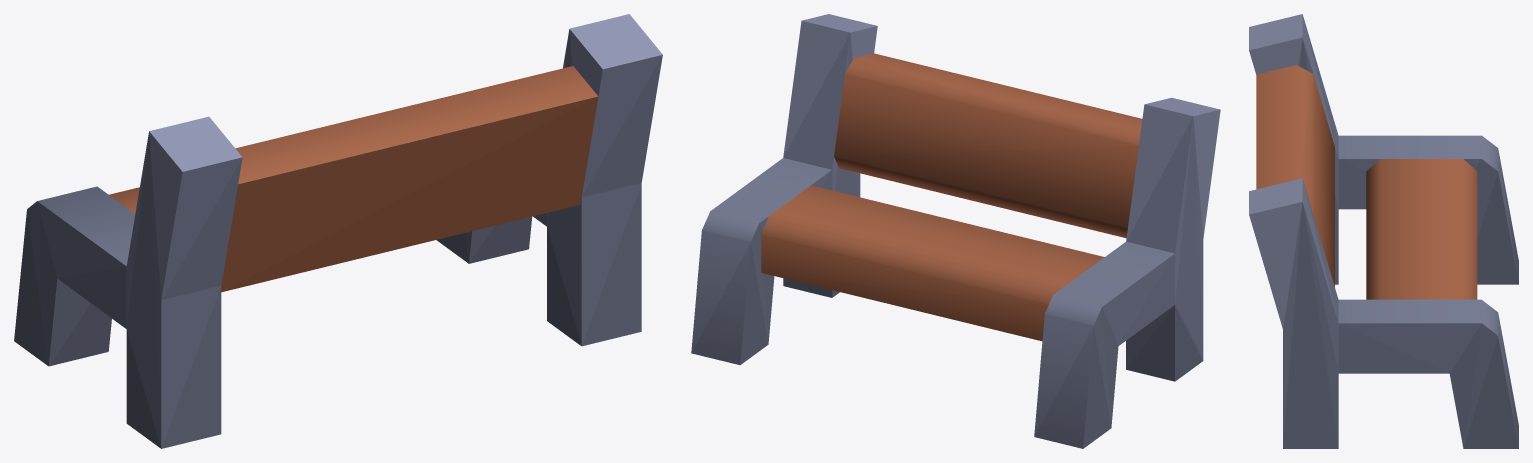
File: coaster_bench.glb
3 renders of one model, left to right at view 1: azimuth 30°, elevation 25°; view 2: azimuth 150°, elevation 25°; view 3: azimuth 270°, elevation 25°, orthographic. The views are drawn at different scales.
Visible parts, largest first — view 1: coaster_bench; view 2: coaster_bench; view 3: coaster_bench.
Part boxes in pixels (box(x1,y1,x2,y2)): coaster_bench: box(14, 14, 662, 448); coaster_bench: box(691, 14, 1220, 448); coaster_bench: box(1249, 14, 1518, 448).
Bounding box in the file's own units: 0.8 × 0.4915 × 0.4863.
